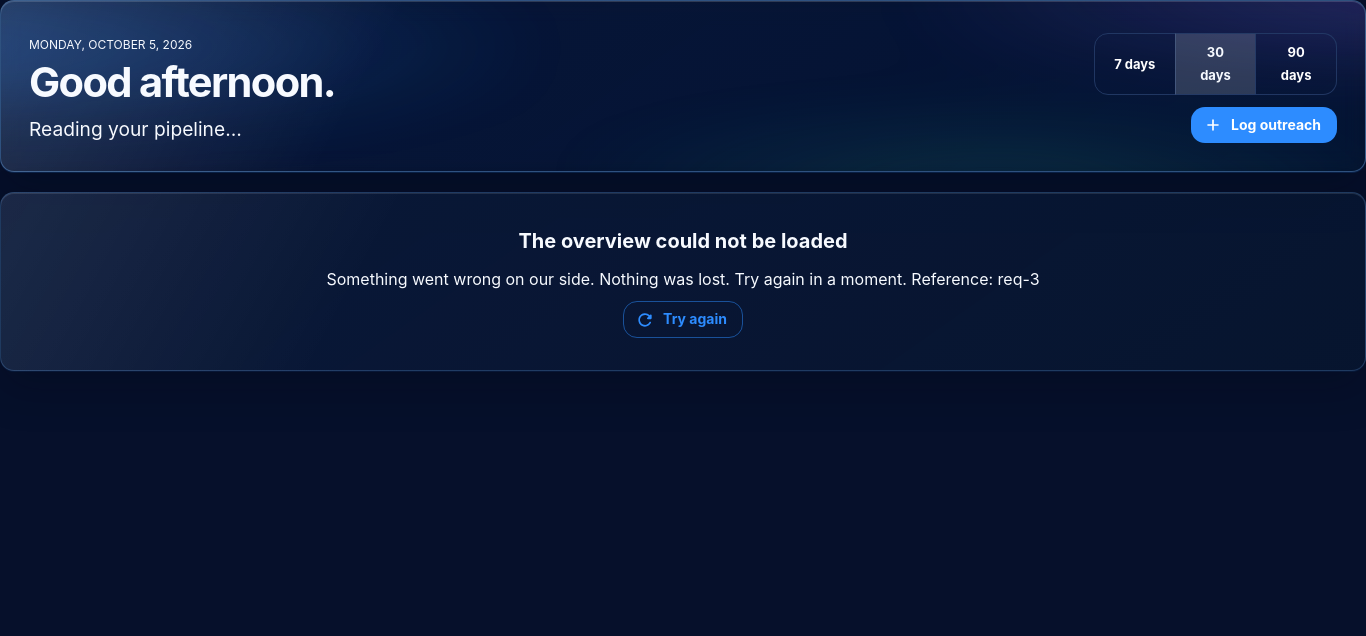
OverviewPage › explains a failure in plain words and retries on request
The image size is (1366, 636).
Expected: the text "Reference: req-3" is shown, [326,269,1040,289]
Expected: the heading "The overview could not be loaded" is shown, [518,225,848,257]
Step 1. Click the button "Try again" → (683, 320), box [623,301,743,338]
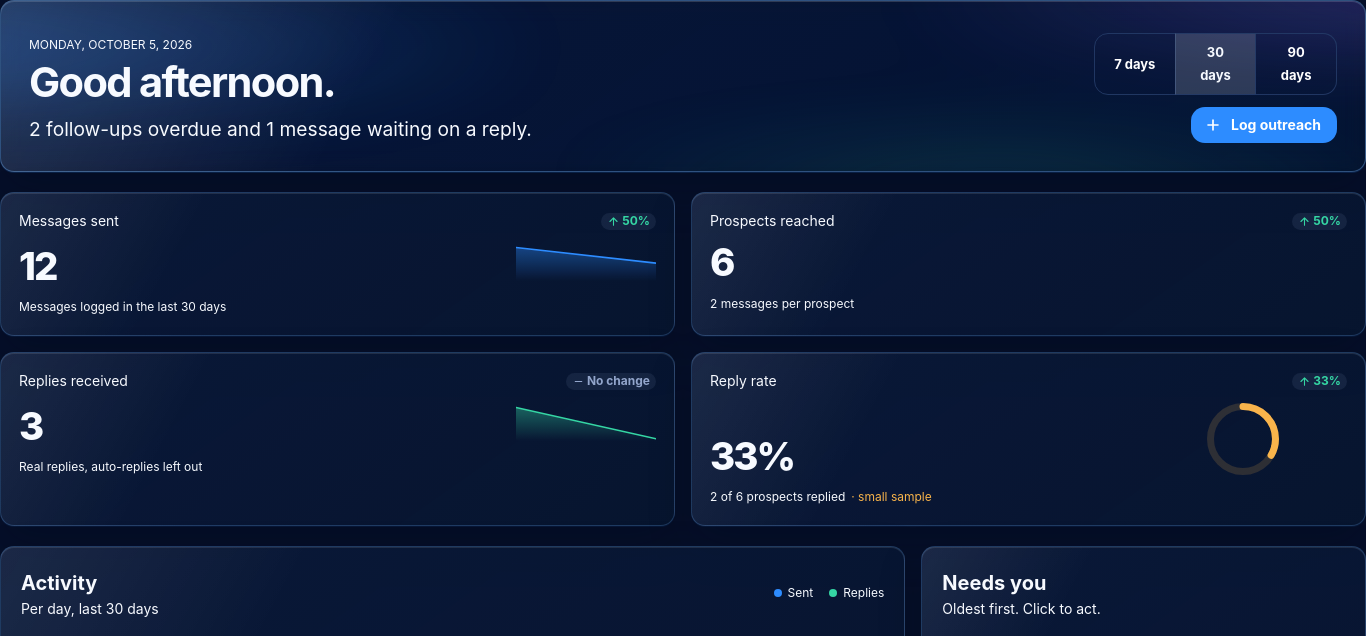
Now the text "Messages sent" is shown, box [19,211,119,231]
